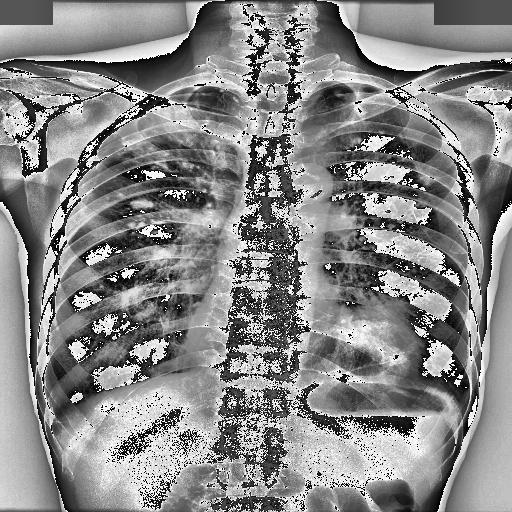0- Aortic enlargement: (274, 164, 335, 209)
10- Pleural effusion: (46, 408, 70, 442), (454, 394, 470, 422)
11- Pleural thickening: (93, 85, 239, 241), (302, 78, 404, 110), (46, 408, 70, 442), (454, 394, 470, 422), (45, 412, 69, 430)
13- Pulmonary fibrosis: (82, 85, 241, 236), (93, 85, 239, 241), (94, 89, 244, 236), (324, 88, 444, 248), (332, 84, 452, 212), (412, 188, 454, 206), (421, 172, 457, 186)
2- Calcification: (82, 85, 241, 236), (93, 85, 239, 241), (332, 84, 452, 212), (309, 186, 324, 198)
3- Cardiomegaly: (186, 319, 426, 383)
8- Nodule-Mass: (331, 304, 428, 378)
9- Other lesion: (315, 277, 393, 319)
